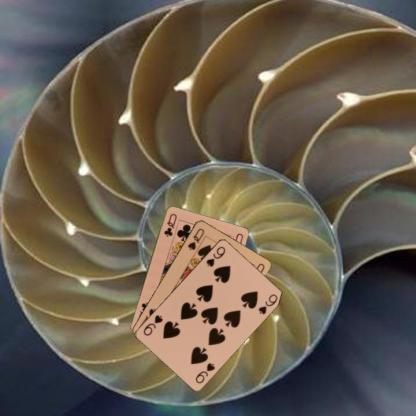9s: (193, 360, 216, 385), (204, 244, 226, 268)
Qc: (161, 211, 178, 237)
Qs: (185, 226, 206, 252)
